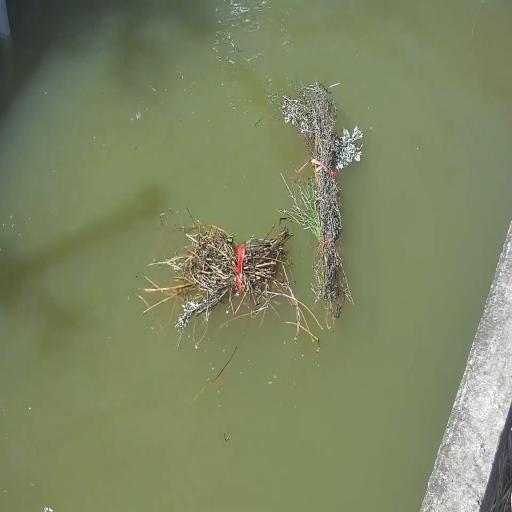twig: (290, 72, 367, 324), (176, 219, 302, 345)
